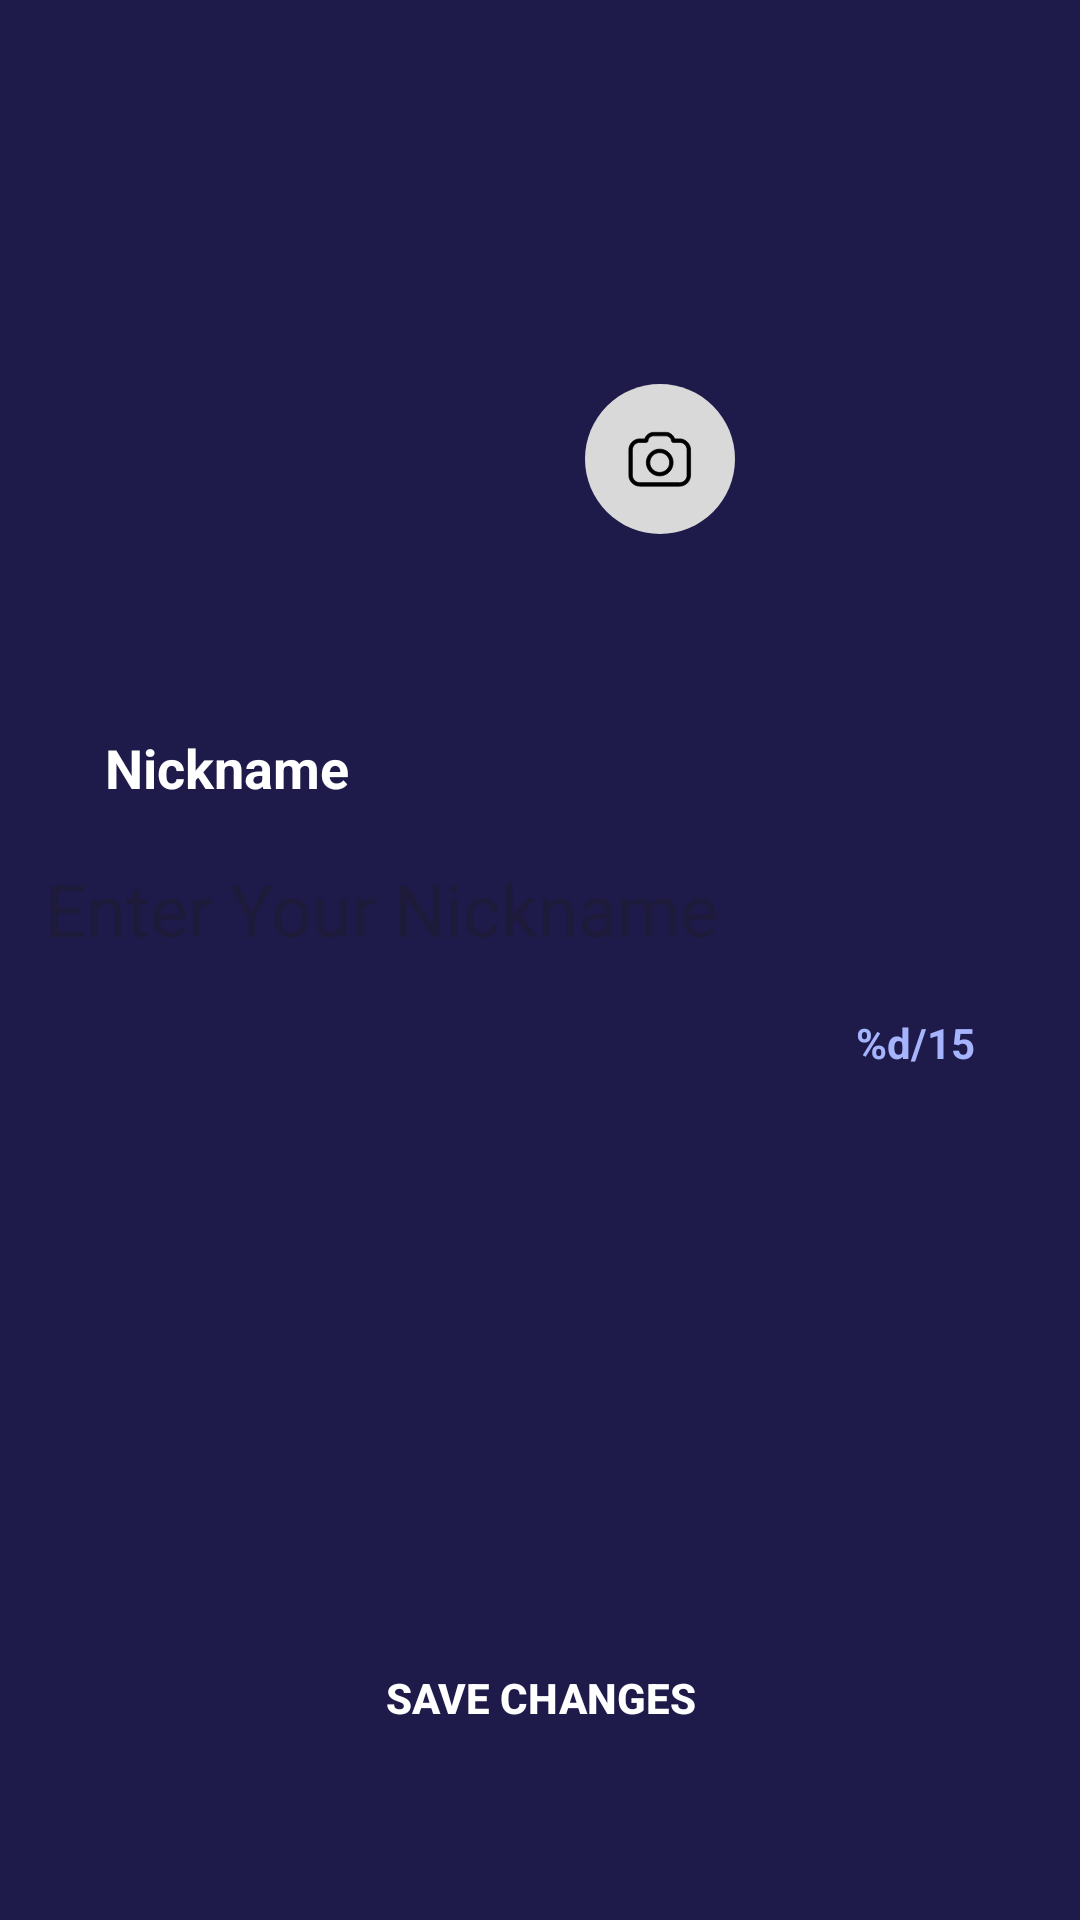

Icon bounding boxes for this 1080px×1920px phone screenshot, format (left=x1, top=y1, right=x2, bottom=y2):
Select Photo: (left=585, top=384, right=735, bottom=534)
